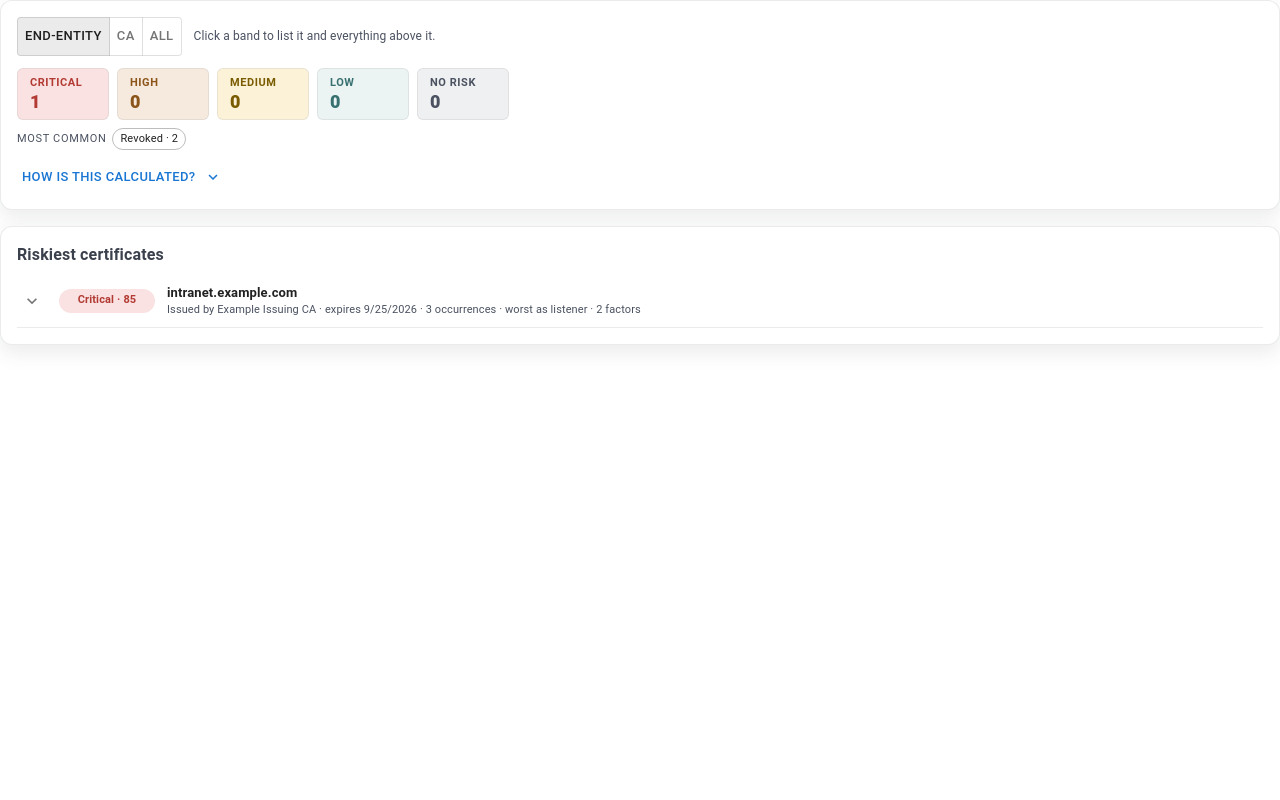
Test: CdpRiskPanel · lista y factores › ⭐ «How is this calculated?» pinta los pesos y umbrales de la API, no unos propios
The width and height of the screenshot is (1280, 800).
Click the button "How is this calculated?" at (121, 177), box [17,162,225,193]
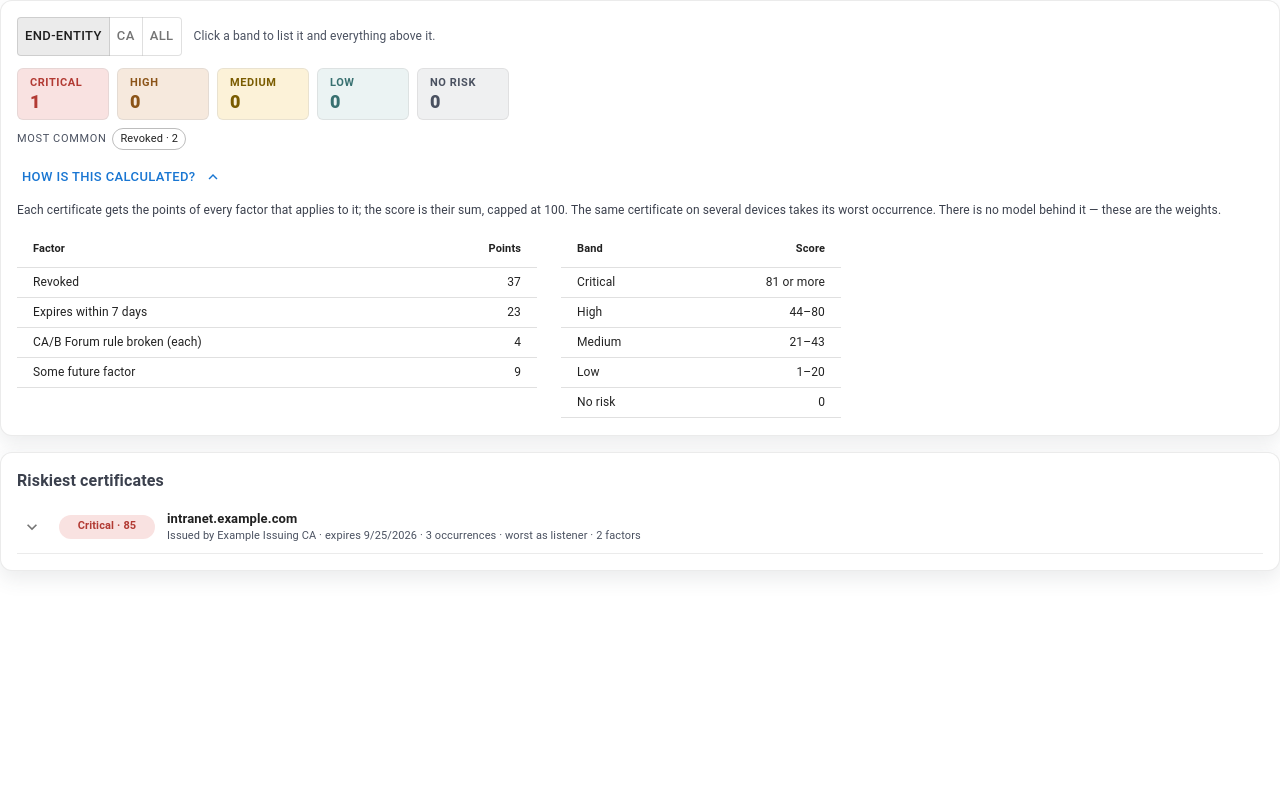
Check: the table named "Risk weights" is shown, box [17,231,537,388]
Check: the cell with test id "weight-revoked" reads "37", box [507,275,521,289]
Check: the cell with test id "weight-expires7d" reads "23", box [507,305,521,319]
